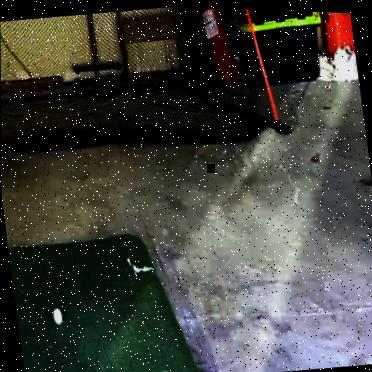ClubHead: (47, 300, 64, 324)
